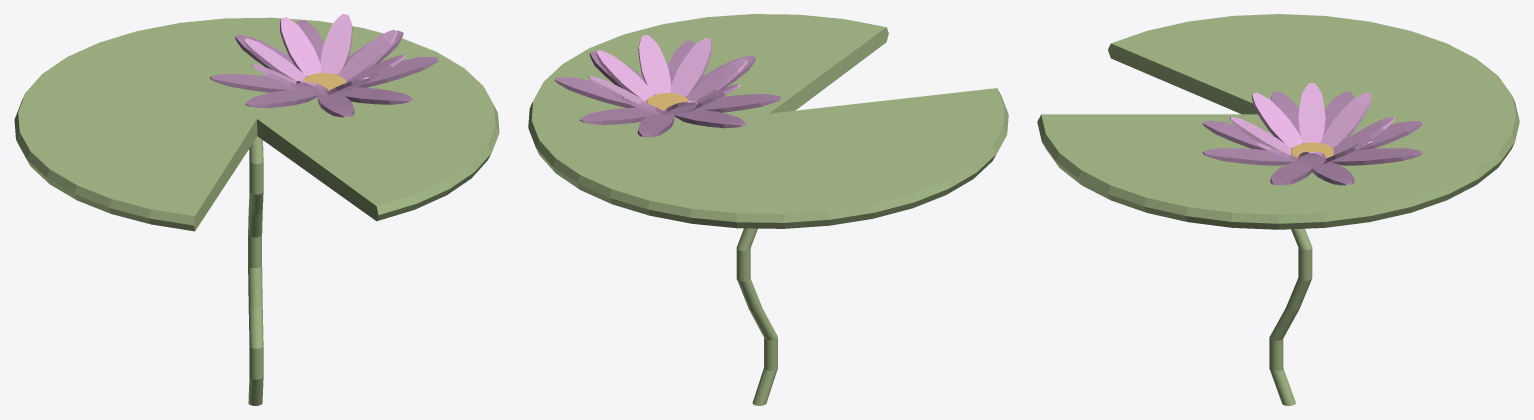
File: Unlilia wodnatitled.glb
3 views of the same model, side by side, from view 1: azimuth 30°, elevation 25°; view 2: azimuth 150°, elevation 25°; view 3: azimuth 270°, elevation 25° (orthographic).
Visible parts, largest first — view 1: Circle, Cube.001; view 2: Circle, Cube.001; view 3: Circle, Cube.001.
Part boxes in pixels (x1,y1,x2,y2): Circle: [14, 17, 499, 405]; Cube.001: [210, 14, 438, 117]; Circle: [528, 14, 1008, 405]; Cube.001: [555, 35, 781, 137]; Circle: [1037, 14, 1519, 405]; Cube.001: [1202, 83, 1422, 185].
Bounding box in the file's own units: 0.6679 × 0.4955 × 0.6679.
